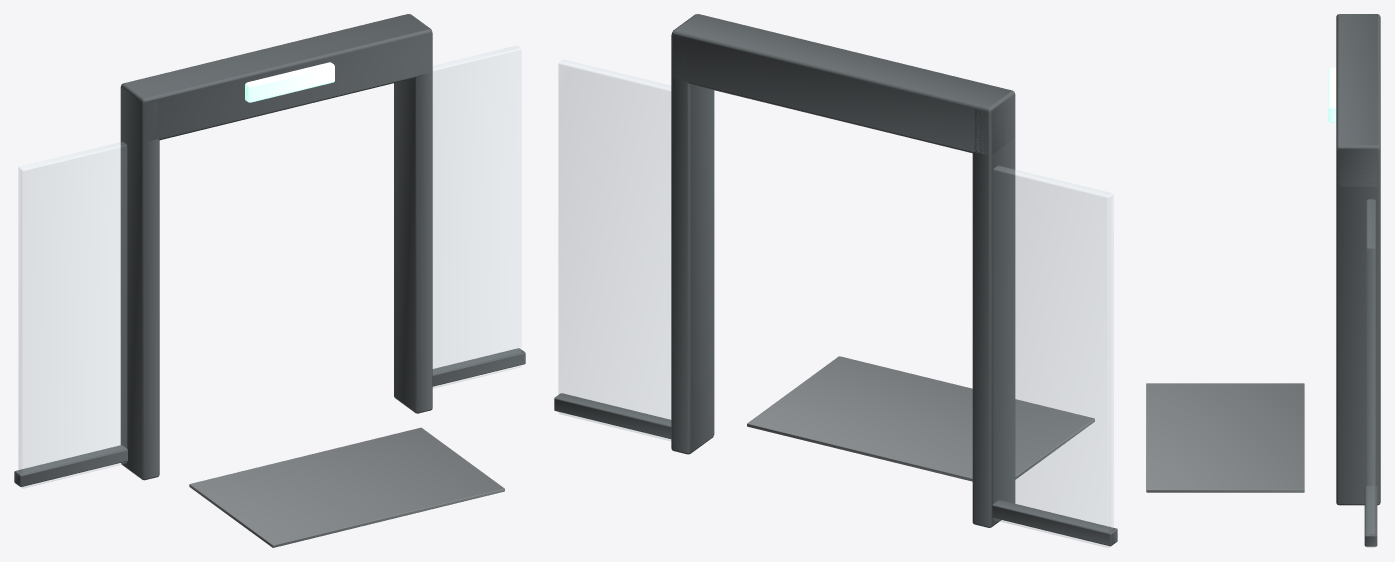
Rendered from sala_puerta.glb.
3 renders of one model, left to right at view 1: azimuth 30°, elevation 25°; view 2: azimuth 150°, elevation 25°; view 3: azimuth 270°, elevation 25°, orthographic. The views are drawn at different scales.
Parts seen in each view (by area): view 1: puerta_hoja-1, puerta_hoja1, puerta_felpudo, puerta_dintel, puerta_jamba-0.47, puerta_jamba0.47, puerta_hoja-1_marco, puerta_luz, puerta_hoja1_marco; view 2: puerta_hoja-1, puerta_hoja1, puerta_dintel, puerta_felpudo, puerta_jamba-0.47, puerta_jamba0.47, puerta_hoja-1_marco, puerta_hoja1_marco; view 3: puerta_felpudo, puerta_jamba0.47, puerta_dintel, puerta_hoja1, puerta_hoja1_marco, puerta_luz.
Part boxes in pixels (box(x1,y1,x2,y2)): puerta_hoja-1: box(18, 142, 126, 488); puerta_hoja1: box(433, 46, 521, 388); puerta_felpudo: box(189, 427, 504, 547); puerta_dintel: box(121, 14, 432, 141); puerta_jamba-0.47: box(120, 87, 159, 480); puerta_jamba0.47: box(394, 32, 432, 413); puerta_hoja-1_marco: box(14, 445, 127, 486); puerta_luz: box(245, 62, 334, 102); puerta_hoja1_marco: box(432, 348, 525, 386); puerta_hoja-1: box(993, 166, 1113, 547); puerta_hoja1: box(558, 60, 670, 440); puerta_dintel: box(672, 14, 1014, 154); puerta_felpudo: box(747, 356, 1094, 481); puerta_jamba-0.47: box(972, 94, 1015, 527); puerta_jamba0.47: box(671, 34, 714, 454); puerta_hoja-1_marco: box(992, 500, 1117, 546); puerta_hoja1_marco: box(554, 393, 671, 438); puerta_felpudo: box(1146, 383, 1304, 492); puerta_jamba0.47: box(1336, 148, 1380, 505); puerta_dintel: box(1336, 14, 1380, 186); puerta_hoja1: box(1366, 199, 1375, 547); puerta_hoja1_marco: box(1364, 486, 1377, 546); puerta_luz: box(1328, 67, 1336, 122).
Size of the model in its own units: 1.74 by 1.25 by 0.74.
